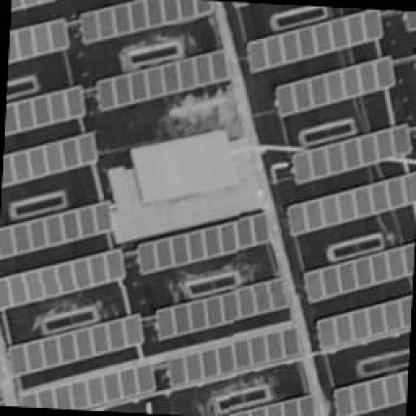solar-pv-panel: (156, 276, 292, 340), (247, 8, 382, 71), (8, 313, 143, 376), (96, 49, 229, 112), (287, 172, 416, 236), (139, 211, 269, 274), (0, 248, 125, 310), (171, 327, 299, 387), (276, 55, 394, 116), (293, 123, 411, 184), (304, 243, 414, 304), (0, 201, 113, 258), (20, 363, 155, 409), (80, 0, 212, 42), (1, 132, 96, 188), (317, 294, 412, 350), (3, 84, 85, 136), (334, 370, 408, 416), (7, 17, 69, 63), (227, 395, 315, 416), (10, 0, 51, 10), (406, 11, 416, 28)
